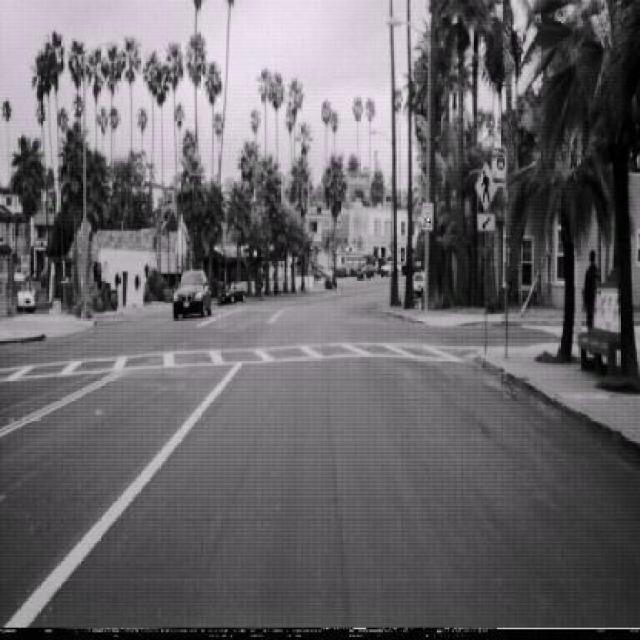pedestrianCrossing: (474, 159, 498, 211)
speedLimit25: (420, 200, 433, 232)
